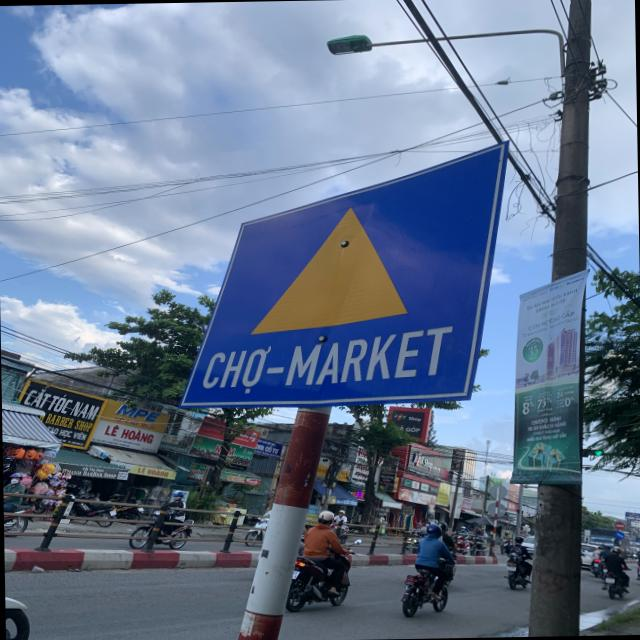Cho_Quay_Xe: (178, 146, 507, 404)
